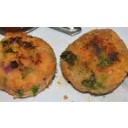cutlet: (63, 29, 128, 97), (1, 34, 57, 99)
